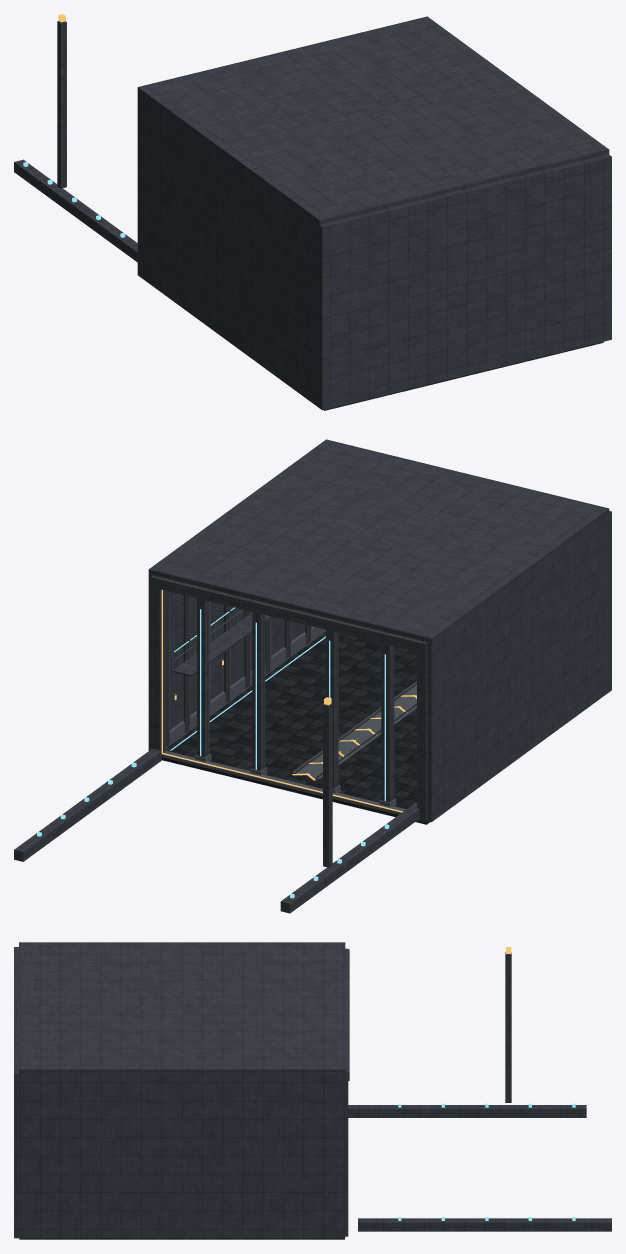
The model's file is menu_cargobay.glb.
The picture shows the model from 3 angles, top to bottom: view 1: azimuth 30°, elevation 25°; view 2: azimuth 150°, elevation 25°; view 3: azimuth 270°, elevation 25°; orthographic projection. The views are drawn at different scales.
Parts seen in each view (by area): view 1: Bulkhead, Ceiling, WallL, Gantry_-1, Mast; view 2: Ceiling, WallL, Deck, WallR, Header, Gantry_1, Gantry_-1, JambR, Pillar_0, Pillar_2, RailWell, Pillar_3 (+6 smaller); view 3: WallR, Ceiling, Gantry_1, Gantry_-1, Bulkhead, Mast, JambR, Deck, Header.
Boxes of the visible parts, x1,y1,x2,y2 form: Bulkhead: (319, 154, 611, 410); Ceiling: (137, 16, 609, 225); WallL: (137, 92, 319, 407); Gantry_-1: (14, 159, 137, 262); Mast: (57, 21, 66, 188); Ceiling: (148, 439, 609, 643); WallL: (427, 514, 609, 822); Deck: (161, 632, 429, 824); WallR: (148, 574, 304, 750); Header: (151, 577, 425, 653); Gantry_1: (14, 749, 161, 861); Gantry_-1: (280, 802, 419, 913); JambR: (151, 575, 165, 752); Pillar_0: (381, 643, 394, 802); Pillar_2: (252, 612, 265, 770); RailWell: (292, 681, 416, 779); Pillar_3: (197, 598, 209, 757); WallR: (19, 1074, 345, 1238); Ceiling: (19, 942, 345, 1073); Gantry_1: (358, 1218, 611, 1231); Gantry_-1: (348, 1105, 586, 1117); Bulkhead: (14, 947, 18, 1238); Mast: (505, 952, 511, 1102); JambR: (345, 1068, 348, 1236); Deck: (19, 1238, 344, 1239); Header: (345, 949, 349, 1080).
Size of the model in its own units: 16.56 by 10.56 by 32.98.
Materials: 8 (3 with a texture image).
